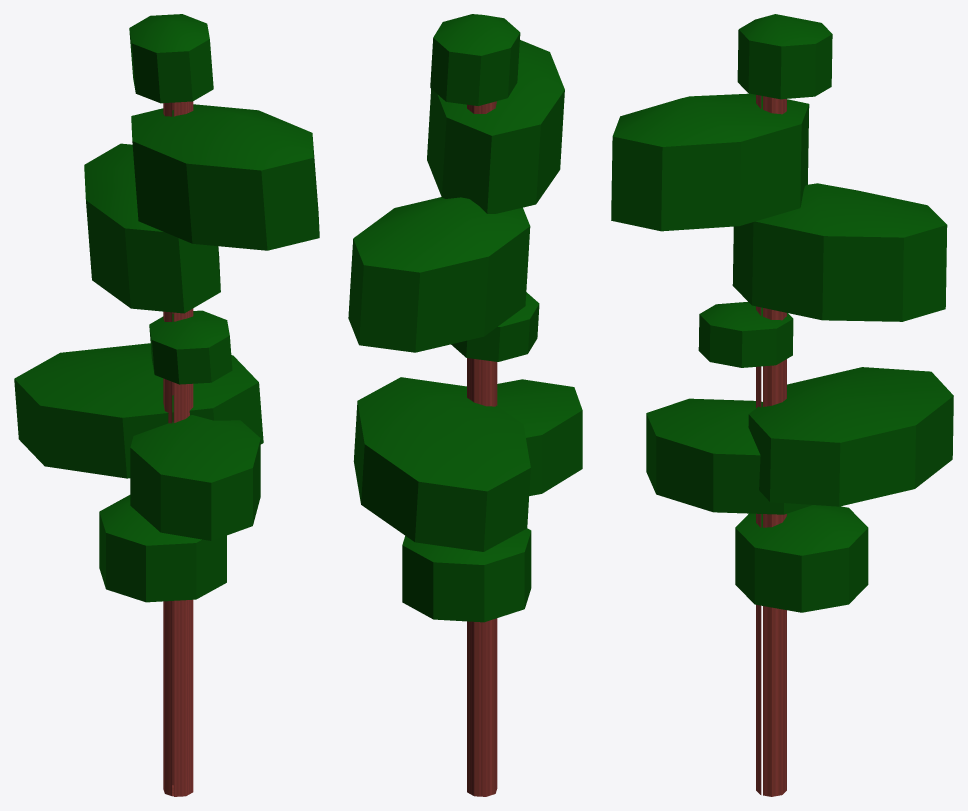
The model's file is tree1.fbx.
3 renders of one model, left to right at view 1: azimuth 30°, elevation 25°; view 2: azimuth 150°, elevation 25°; view 3: azimuth 270°, elevation 25°, orthographic.
Parts seen in each view (by area): view 1: pCylinder7, pCylinder6, pCylinder3, pCylinder4, pCylinder2, trunk1, pCylinder8, pCylinder5; view 2: pCylinder6, pCylinder4, pCylinder7, pCylinder2, pCylinder8, trunk1, pCylinder3, pCylinder5; view 3: pCylinder4, pCylinder7, pCylinder6, pCylinder2, pCylinder3, trunk1, pCylinder8, pCylinder5.
Part boxes in pixels (x1,y1,x2,y2): pCylinder7: (131, 104, 319, 250); pCylinder6: (14, 343, 263, 478); pCylinder3: (130, 415, 260, 540); pCylinder4: (84, 143, 220, 313); pCylinder2: (99, 495, 226, 602); trunk1: (163, 101, 193, 796); pCylinder8: (129, 14, 213, 103); pCylinder5: (149, 310, 232, 384); pCylinder6: (353, 377, 530, 551); pCylinder4: (348, 197, 530, 352); pCylinder7: (427, 40, 564, 213); pCylinder2: (402, 528, 531, 622); pCylinder8: (430, 14, 520, 105); trunk1: (467, 101, 497, 796); pCylinder3: (497, 379, 582, 495); pCylinder5: (451, 292, 539, 361); pCylinder4: (732, 183, 947, 321); pCylinder7: (611, 93, 809, 231); pCylinder6: (748, 367, 953, 506); pCylinder2: (735, 505, 868, 612); pCylinder3: (646, 398, 811, 514); trunk1: (756, 95, 786, 796); pCylinder8: (737, 14, 832, 99); pCylinder5: (698, 302, 793, 367).
Bounding box in the file's own units: 1.36 × 5.36 × 2.15.
2 materials, 1 textured.
